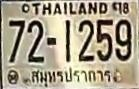1: (64, 20, 70, 62)
2: (26, 20, 44, 62), (78, 19, 93, 61)
5: (96, 19, 112, 60)
7: (8, 19, 24, 62)
9: (115, 18, 131, 60)
SPK: (29, 68, 116, 87)
